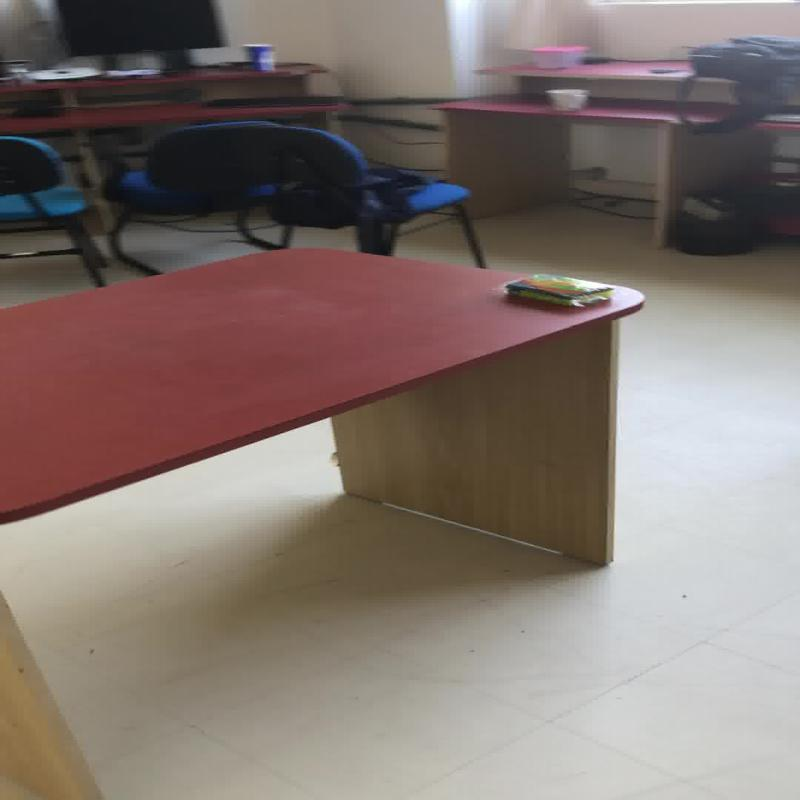sponge: (503, 272, 614, 306)
